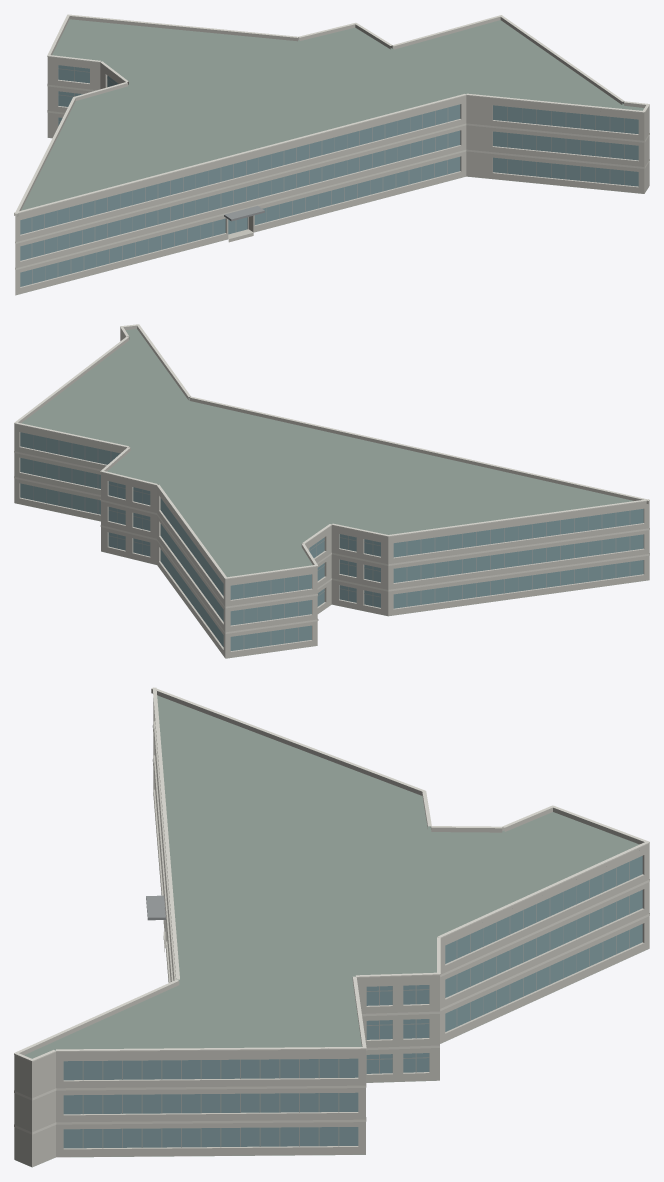
The picture shows the model from 3 angles, top to bottom: view 1: azimuth 30°, elevation 25°; view 2: azimuth 150°, elevation 25°; view 3: azimuth 270°, elevation 25°; orthographic projection. The views are drawn at different scales.
Visible parts, largest first — view 1: student1__roof, student1__glass, student1__wall, student1__trim, student1__parapet, student1__frame; view 2: student1__roof, student1__wall, student1__glass, student1__trim, student1__parapet, student1__frame; view 3: student1__roof, student1__wall, student1__glass, student1__trim, student1__parapet, student1__frame.
Part boxes in pixels (box(x1,y1,x2,y2)): student1__roof: box(17, 19, 644, 294); student1__glass: box(20, 65, 638, 286); student1__wall: box(15, 59, 649, 295); student1__trim: box(14, 14, 649, 269); student1__parapet: box(14, 16, 649, 216); student1__frame: box(31, 67, 624, 283); student1__roof: box(15, 329, 647, 658); student1__wall: box(14, 330, 649, 658); student1__glass: box(20, 432, 643, 650); student1__trim: box(14, 324, 649, 633); student1__parapet: box(14, 325, 649, 581); student1__frame: box(33, 435, 630, 648); student1__roof: box(15, 695, 647, 1167); student1__wall: box(14, 699, 649, 1167); student1__glass: box(63, 856, 642, 1148); student1__trim: box(14, 687, 649, 1134); student1__parapet: box(14, 689, 649, 1064); student1__frame: box(82, 861, 629, 1148).
Bounding box in the file's own units: 82.34 × 11.35 × 59.25.
